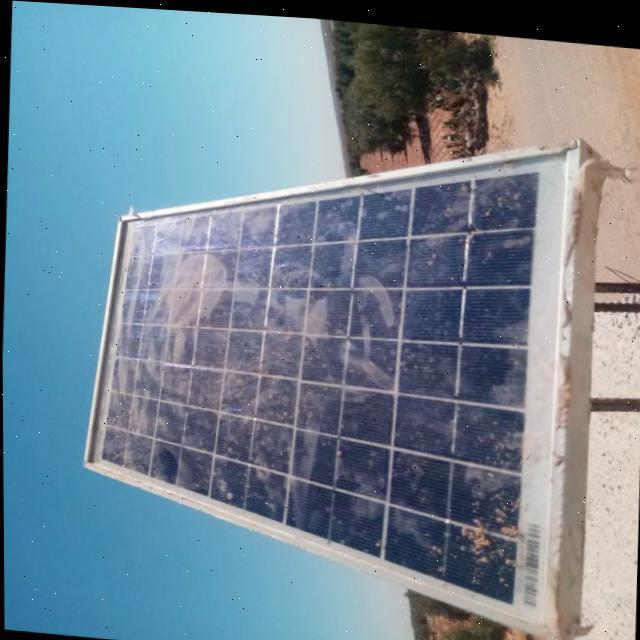Anomaly Solar Panel: (91, 162, 545, 608)
Surface Contaminant: (83, 124, 568, 603)
